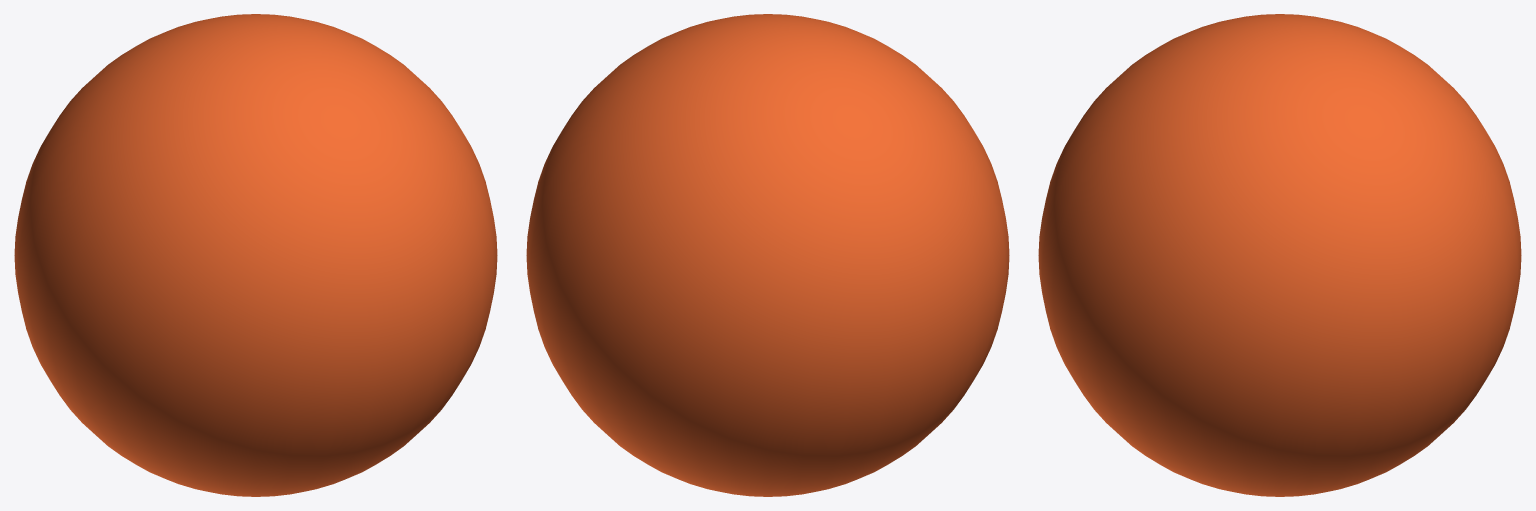
File: player-classic.gltf
3 views of the same model, side by side, from view 1: azimuth 30°, elevation 25°; view 2: azimuth 150°, elevation 25°; view 3: azimuth 270°, elevation 25° (orthographic).
Size of the model in its own units: 2.16 by 2.16 by 2.16.
